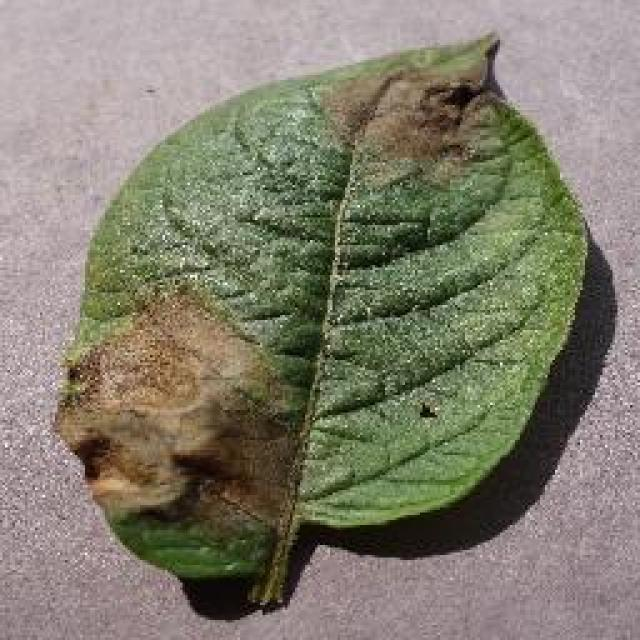Potato: (52, 28, 590, 608)
